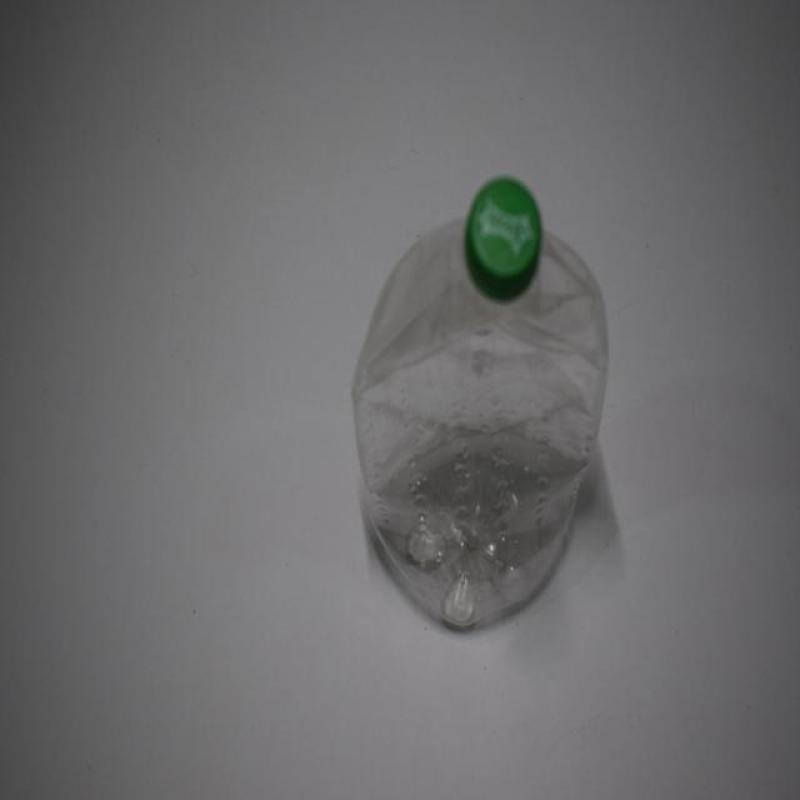botella: (352, 175, 608, 637)
